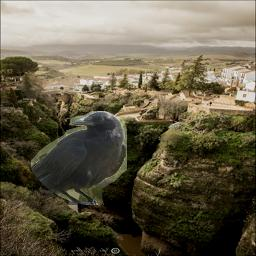Crow: (31, 111, 127, 205)
